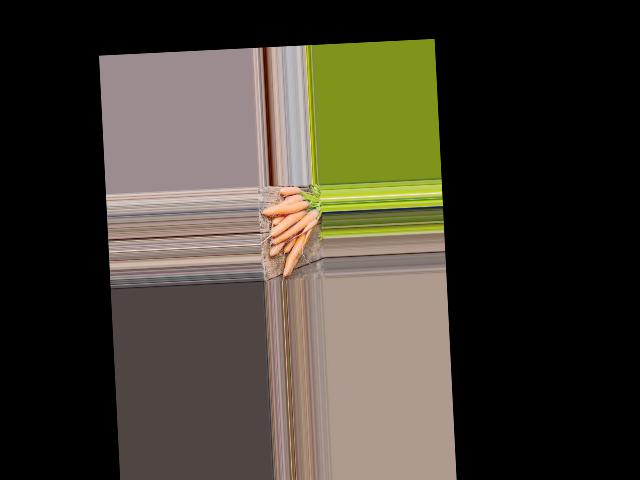carrot: (279, 232, 307, 275)
